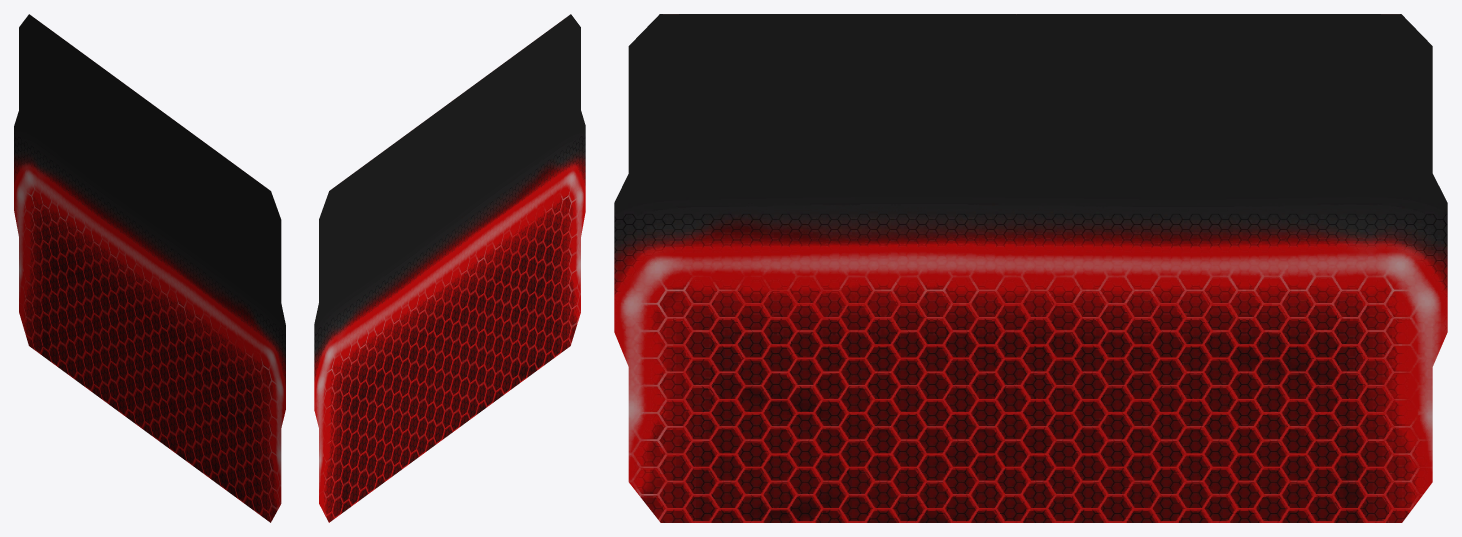
Rendered from Shield.obj.
The picture shows the model from 3 angles, left to right: view 1: azimuth 30°, elevation 25°; view 2: azimuth 150°, elevation 25°; view 3: azimuth 270°, elevation 25°; orthographic projection. The views are drawn at different scales.
Parts seen in each view (by area): view 1: AstroShield_Mesh; view 2: AstroShield_Mesh; view 3: AstroShield_Mesh.
Boxes of the visible parts, x1,y1,x2,y2 form: AstroShield_Mesh: [14, 14, 285, 522]; AstroShield_Mesh: [314, 14, 585, 522]; AstroShield_Mesh: [614, 14, 1447, 522].
Size of the model in its own units: 1e-06 by 2.77 by 4.11.
